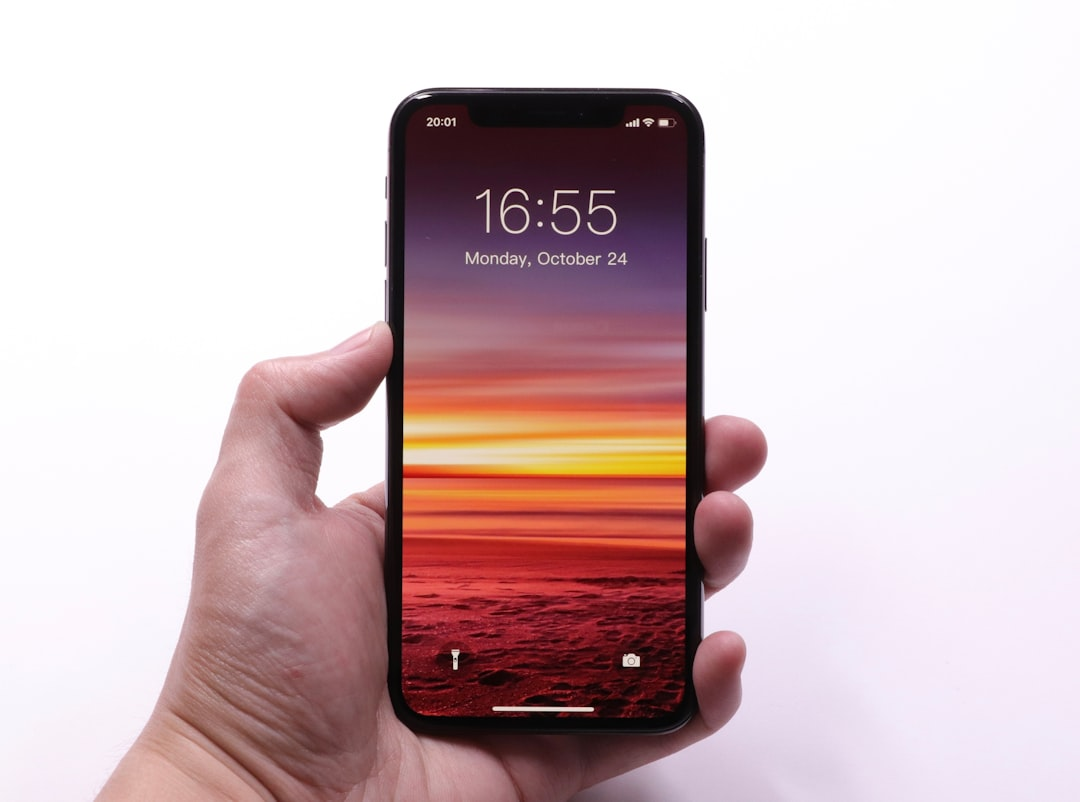phone: (385, 86, 706, 740)
